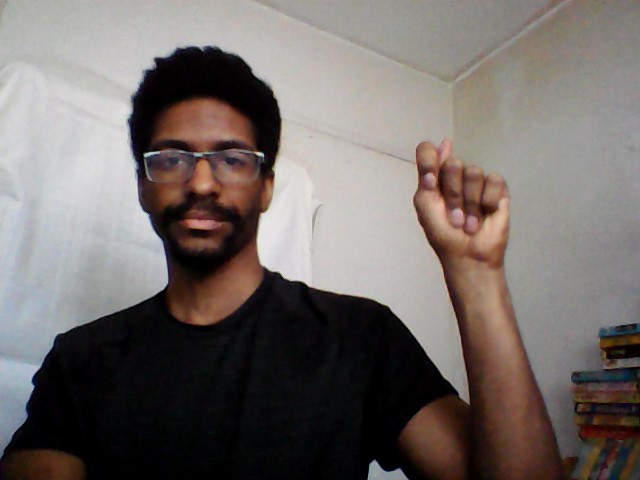t: (409, 133, 518, 269)
